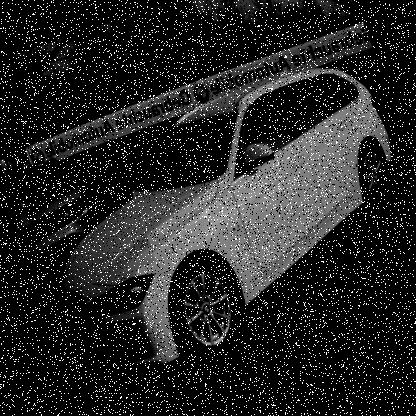Car: (18, 61, 415, 398), (0, 139, 157, 309)
